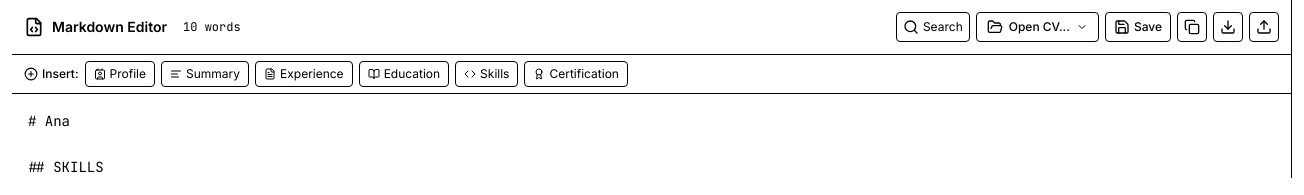
Test case: MarkdownEditor when a section is added › says that the section was added
Step 1. Click the button "Education" → (404, 74), box top-left (359, 61), bottom-right (449, 87)
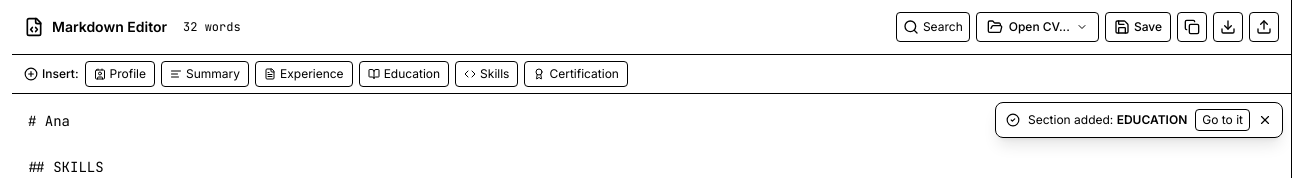
Check: the message with test id "snippet-notice" shows "Section added:", box top-left (1028, 112), bottom-right (1113, 127)
Check: the message with test id "snippet-notice" shows "EDUCATION", box top-left (1117, 112), bottom-right (1187, 127)
